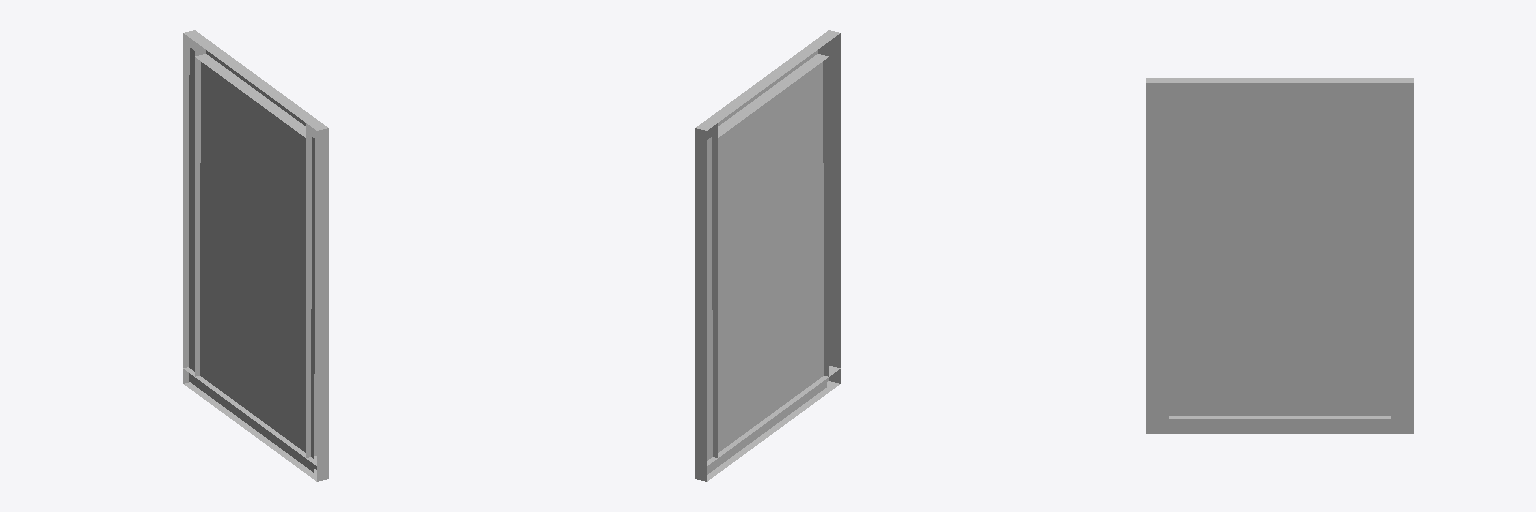
The model's file is Mirror01.obj.
The picture shows the model from 3 angles: view 1: azimuth 30°, elevation 25°; view 2: azimuth 150°, elevation 25°; view 3: azimuth 270°, elevation 25°; orthographic projection.
Visible parts, largest first — view 1: Mirror01_LOD0_mirror01.001; view 2: Mirror01_LOD0_mirror01.001; view 3: Mirror01_LOD0_mirror01.001.
Boxes of the visible parts, x1,y1,x2,y2 form: Mirror01_LOD0_mirror01.001: [183, 30, 328, 481]; Mirror01_LOD0_mirror01.001: [695, 30, 840, 481]; Mirror01_LOD0_mirror01.001: [1146, 78, 1413, 433].
Bounding box in the file's own units: 0.0285 × 0.8109 × 0.5609.